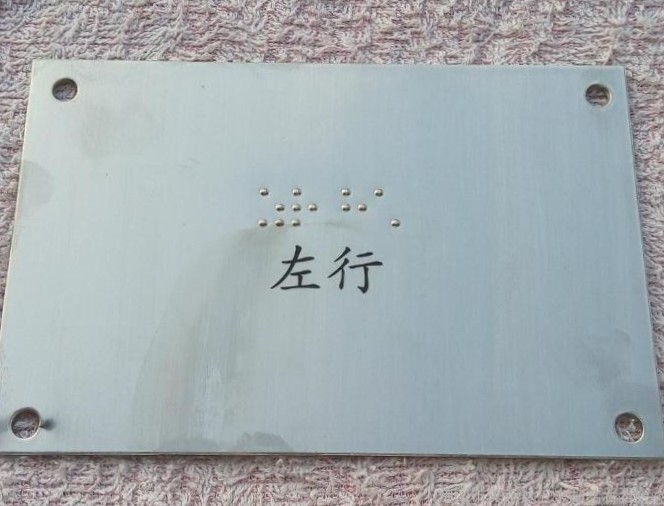Braille: (373, 186, 401, 229), (291, 187, 318, 229), (341, 186, 368, 228), (258, 187, 285, 228)
